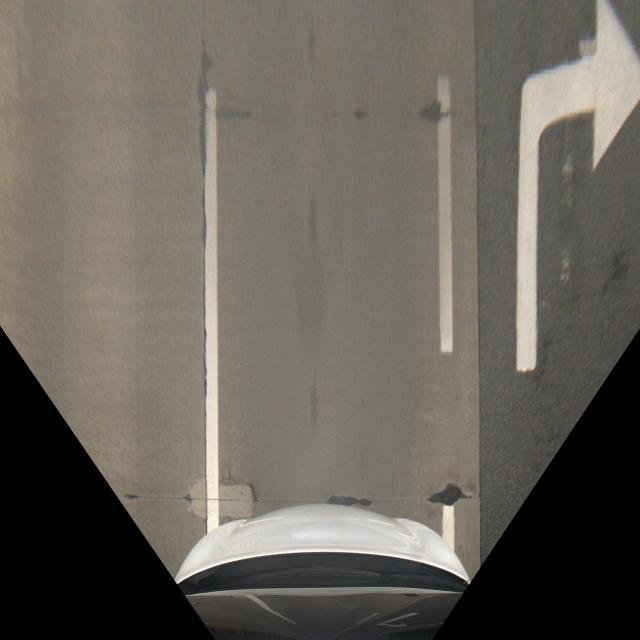right: (433, 0, 640, 376)
